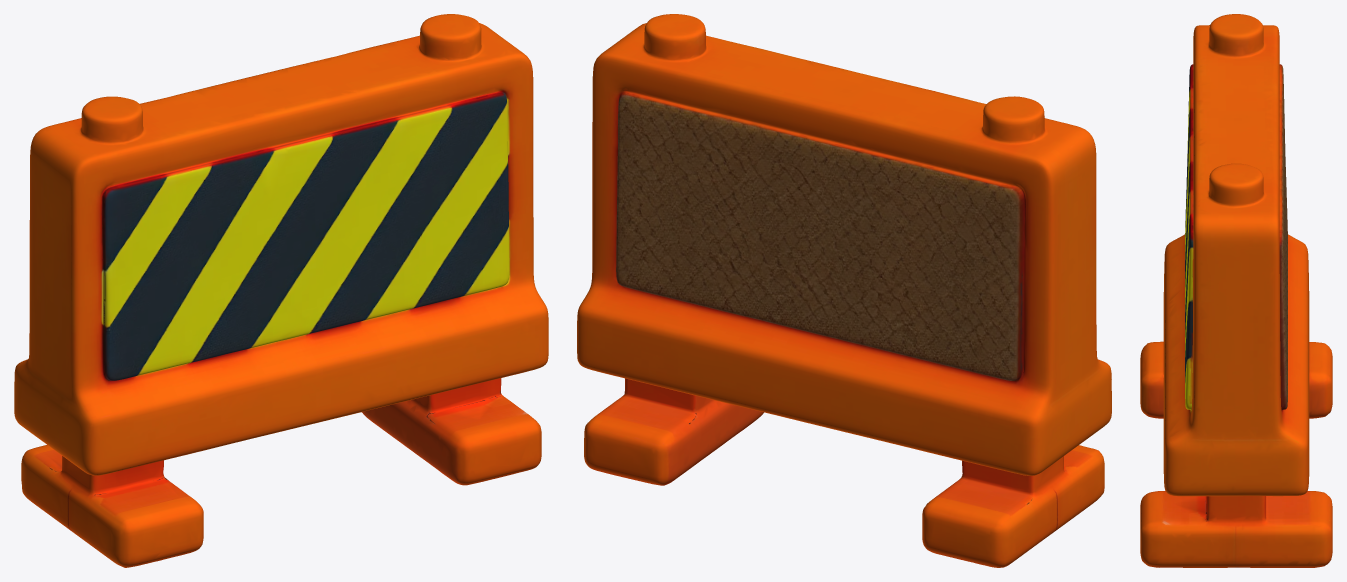
Rendered from obstacle_lowbarrier.glb.
3 renders of one model, left to right at view 1: azimuth 30°, elevation 25°; view 2: azimuth 150°, elevation 25°; view 3: azimuth 270°, elevation 25°, orthographic. The views are drawn at different scales.
Parts seen in each view (by area): view 1: model; view 2: model; view 3: model.
Boxes of the visible parts, box(x1,y1,x2,y2) form: model: box(14, 14, 548, 567); model: box(577, 14, 1111, 567); model: box(1140, 14, 1332, 567).
Size of the model in its own units: 1.9 by 1.63 by 0.7515.
1 material, 1 textured.
